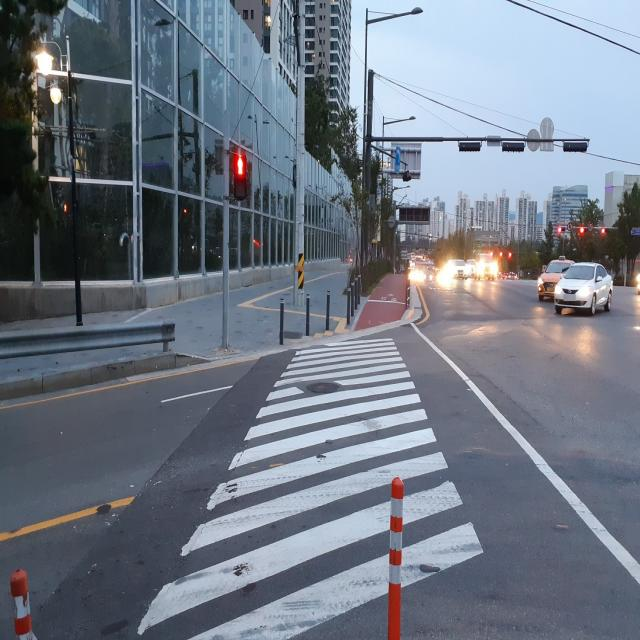빨간불: (234, 155, 246, 199)
횡단보도: (136, 335, 485, 639)
